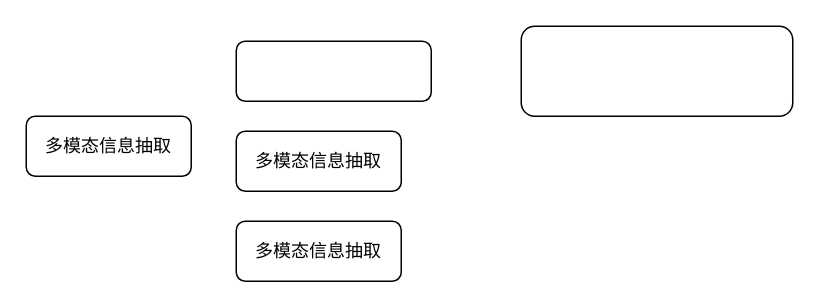
Image size: 819x308. Some labels were removed from this diagram. Here are the shapes that lost their labels. From the top down, the centre of each, then its label:
the point at 333,70: 多模态命名实体识别
the point at 656,70: 从文本中识别实体，并为其添加相应的标注信息，即实体类型
